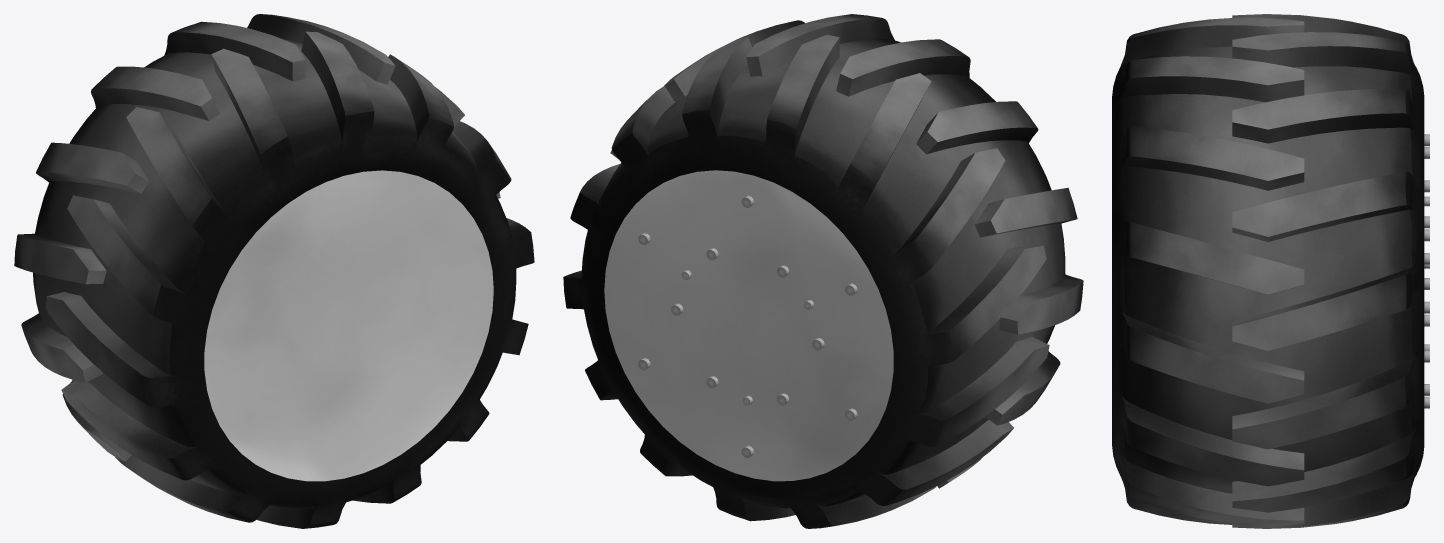
The model's file is rubber_wheel_left.dae.
3 renders of one model, left to right at view 1: azimuth 30°, elevation 25°; view 2: azimuth 150°, elevation 25°; view 3: azimuth 270°, elevation 25°, orthographic. The views are drawn at different scales.
Parts seen in each view (by area): view 1: rubber_wheel; view 2: rubber_wheel; view 3: rubber_wheel.
Boxes of the visible parts, x1,y1,x2,y2 form: rubber_wheel: (14,14,534,528); rubber_wheel: (563,14,1083,528); rubber_wheel: (1112,14,1429,528).
Bounding box in the file's own units: 0.235 × 0.145 × 0.235.
Materials: 1 (1 with a texture image).
